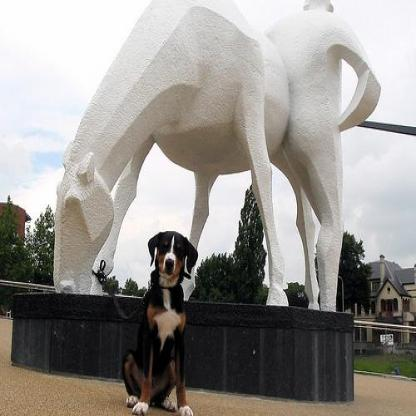Appenzeller: (121, 229, 193, 414)
